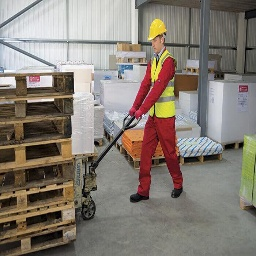helmet: (146, 18, 168, 46)
person: (131, 16, 184, 204)
vest: (150, 50, 175, 118)
